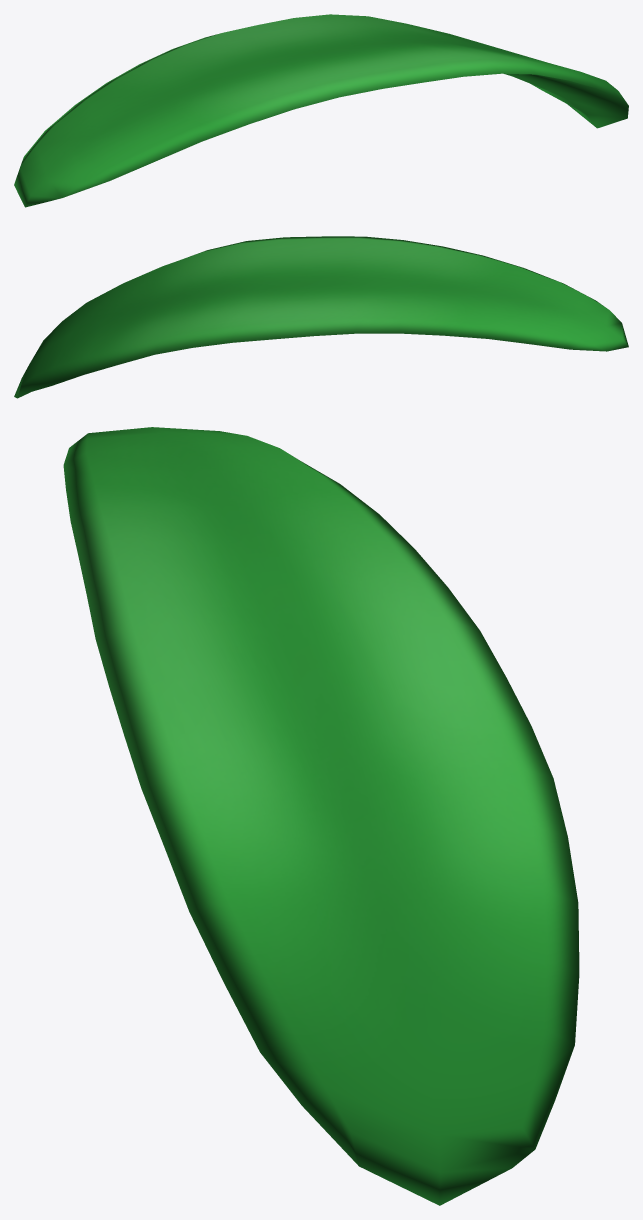
File: leaf2.obj
The picture shows the model from 3 angles, top to bottom: view 1: azimuth 30°, elevation 25°; view 2: azimuth 150°, elevation 25°; view 3: azimuth 270°, elevation 25°; orthographic projection. The views are drawn at different scales.
Parts seen in each view (by area): view 1: Object034; view 2: Object034; view 3: Object034.
Boxes of the visible parts, left/top/right/bottom form: Object034: left=14, top=14, right=628, bottom=207; Object034: left=14, top=236, right=628, bottom=398; Object034: left=63, top=427, right=579, bottom=1205.
Size of the model in its own units: 72.31 by 21.65 by 30.08.
